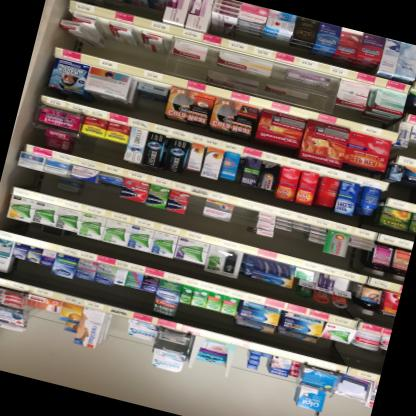empty_space: (227, 206, 260, 246), (100, 314, 130, 356), (183, 195, 206, 233), (229, 347, 251, 385)
